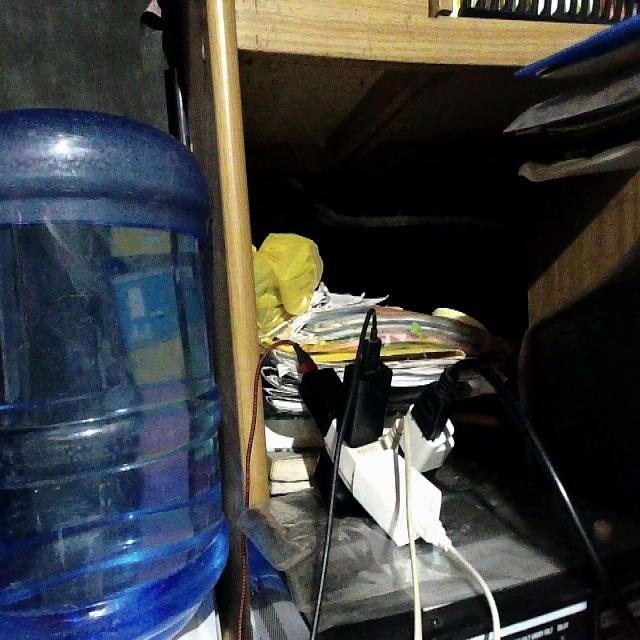-: (287, 320, 467, 555)
